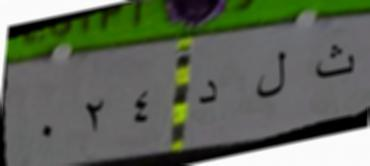0: (38, 118, 58, 147)
2: (83, 94, 110, 139)
4: (125, 87, 156, 134)
daal: (196, 76, 222, 113)
laam: (252, 48, 294, 102)
thaa: (302, 33, 359, 80)
